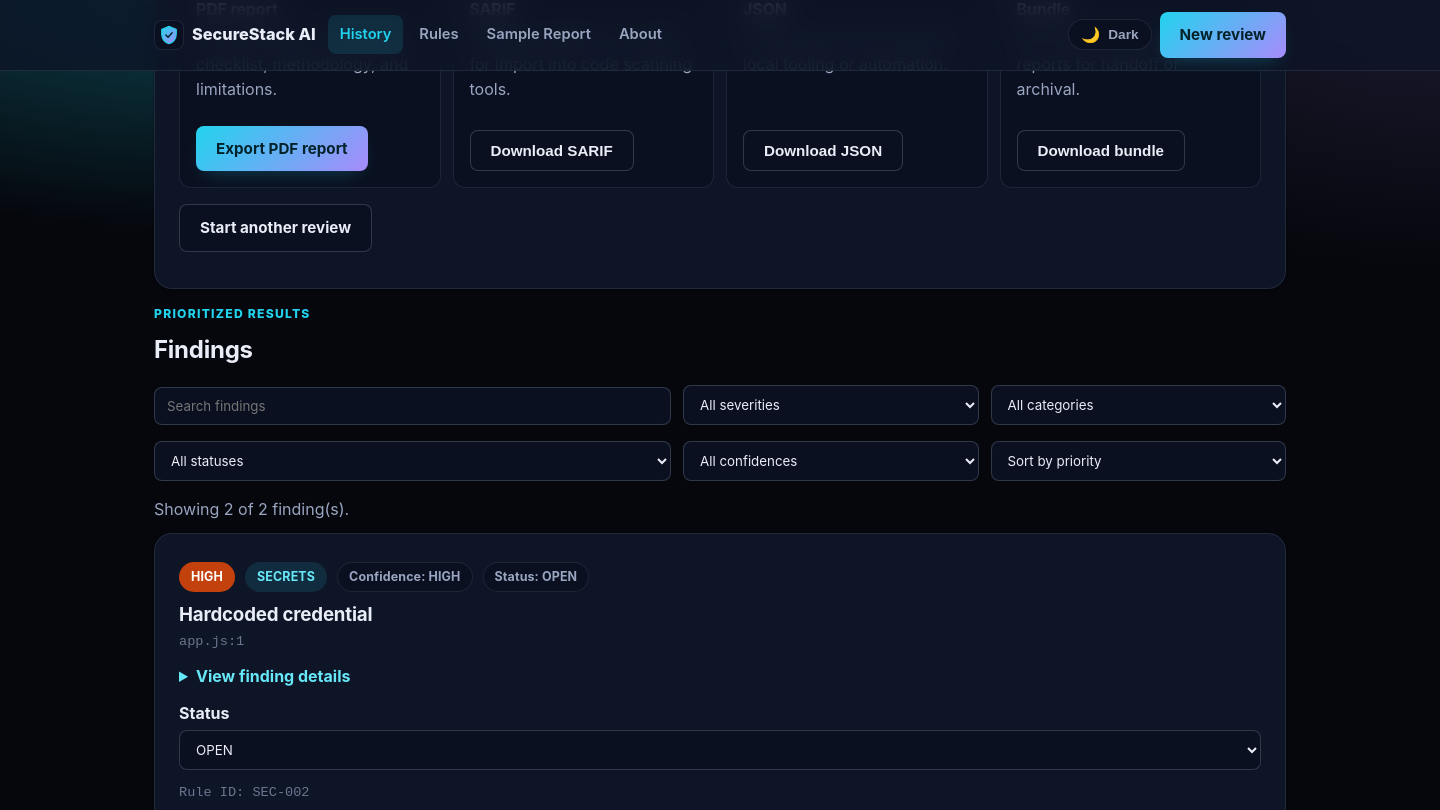
Test: results page › empty filtered state renders when no findings match
(page scrolled)
Type "no-match" into the field labelled "Search findings" at (413, 406), box [154, 387, 671, 425]
(page scrolled)
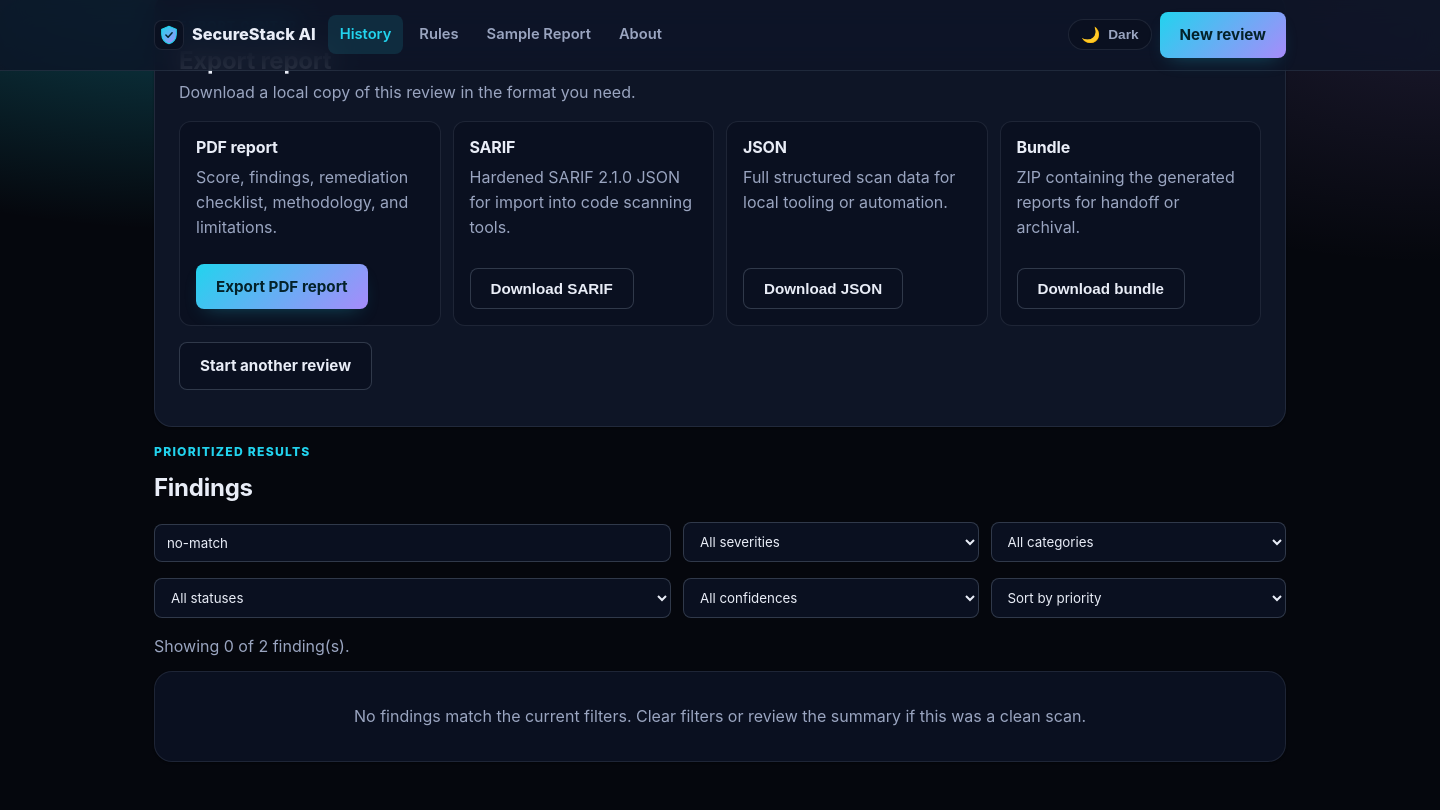
Now the text "No findings match the current filters" is shown, box [354, 706, 1086, 726]
Now the text "Showing 0 of 2 finding(s)." is shown, box [154, 636, 350, 656]
